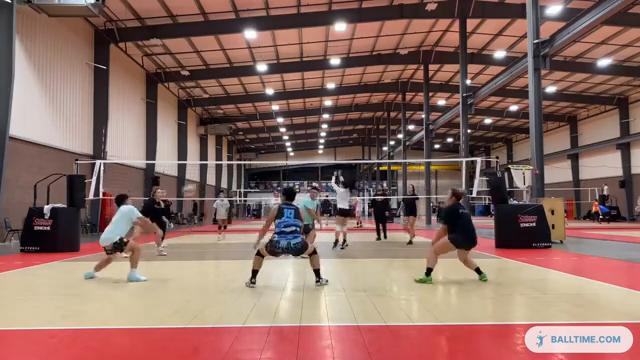difesa: (81, 187, 164, 286)
